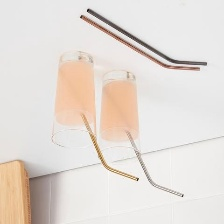drinking_straw: (77, 6, 209, 75), (122, 127, 188, 201), (80, 108, 141, 185)
glass: (47, 47, 102, 152), (95, 67, 146, 164)
